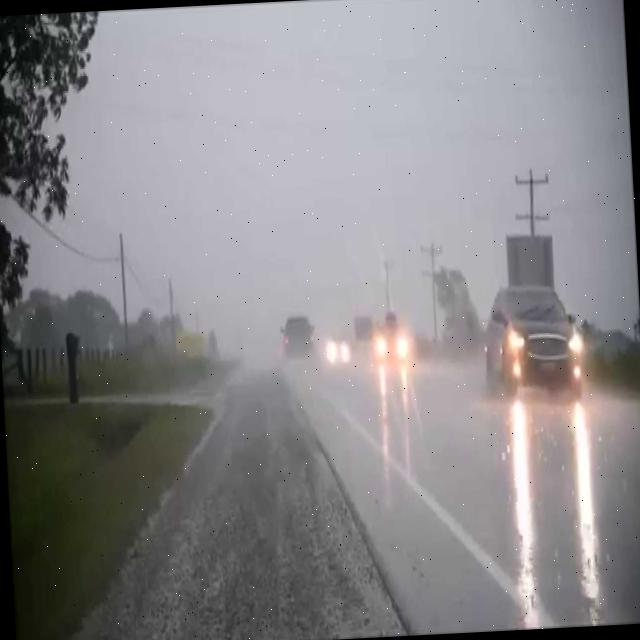car: (482, 282, 578, 388), (372, 322, 412, 366), (279, 316, 316, 361), (325, 333, 350, 364)
